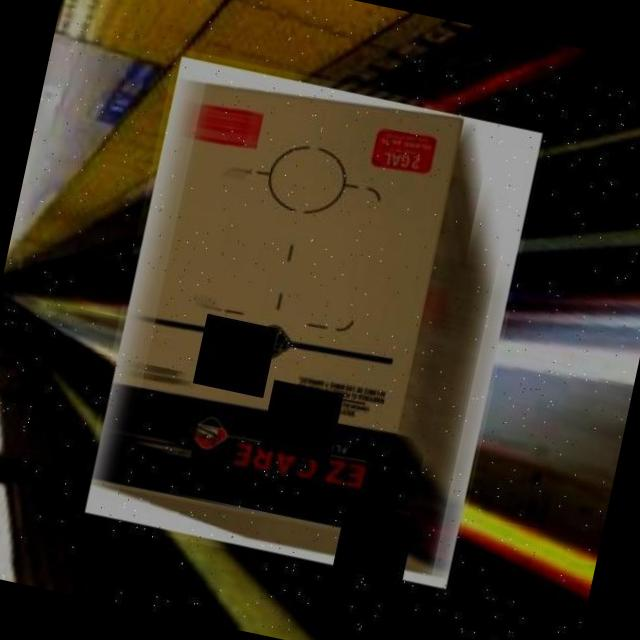box: (77, 47, 548, 596)
